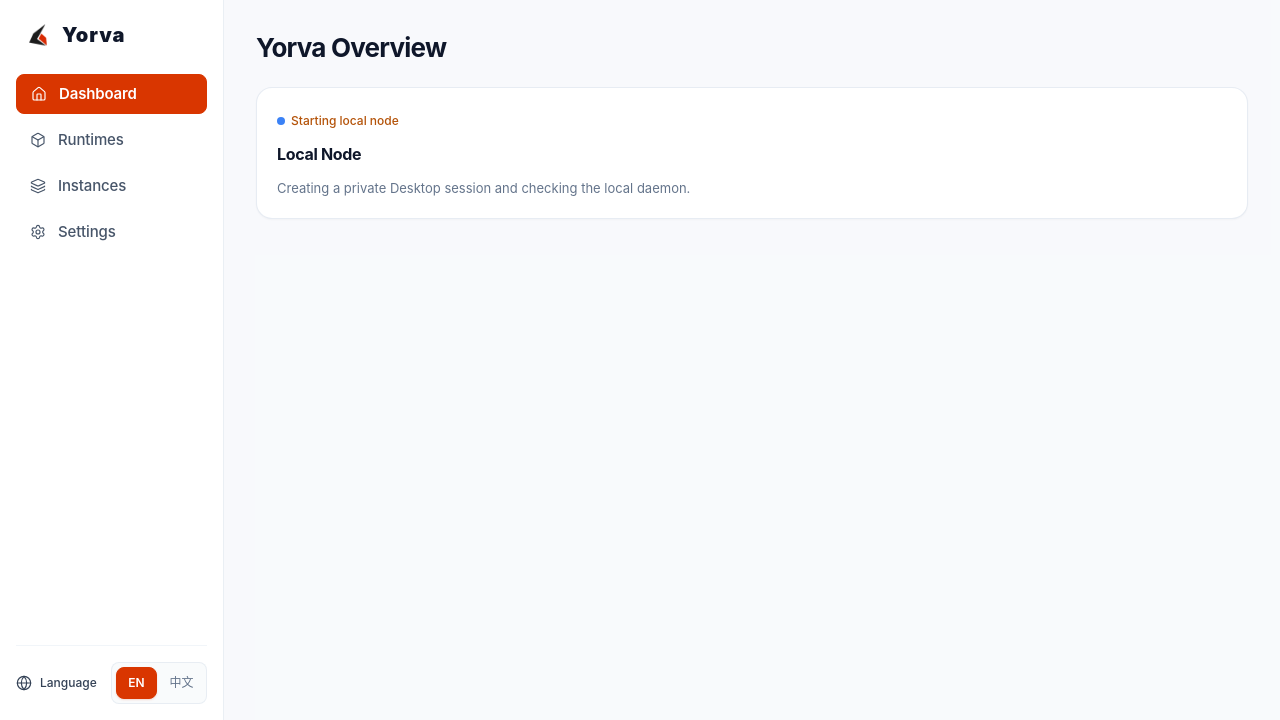
Test: App instance operation recovery › reloads a running instance.delete dialog after Desktop restart
Click the button "Instances" at coordinates (112, 186), box left=16, top=166, right=207, bottom=206
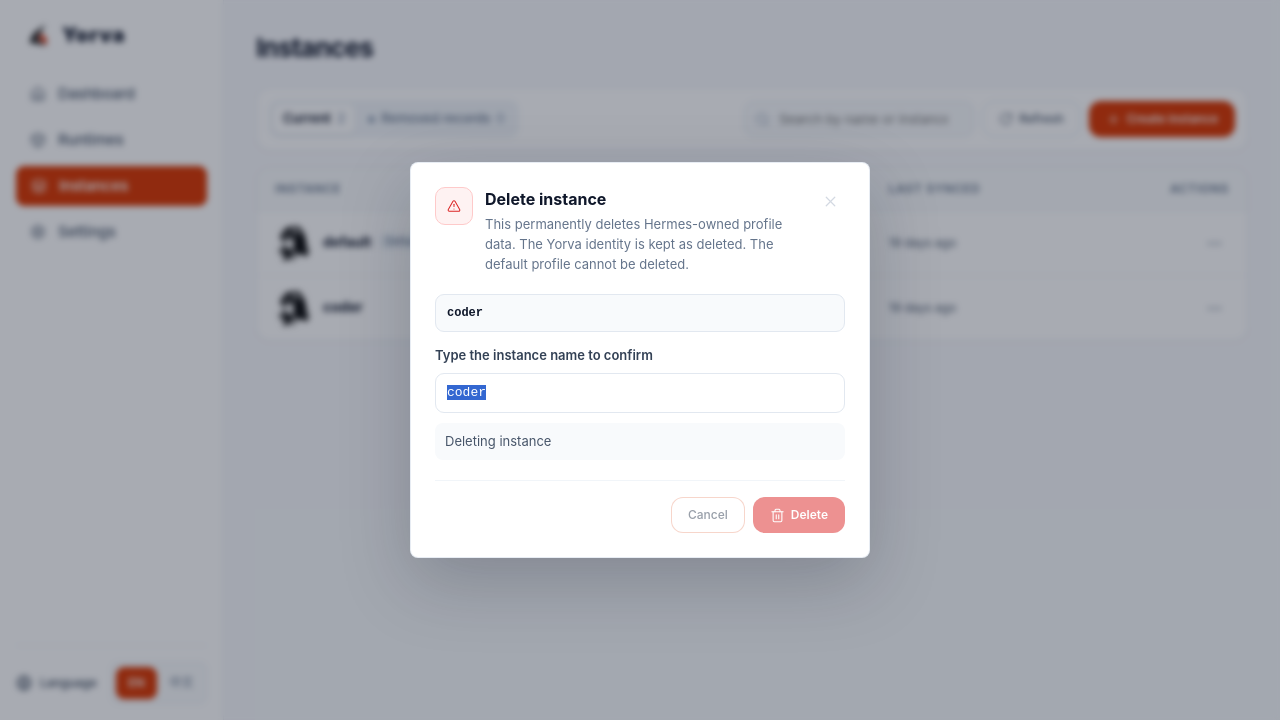
Expected: the heading "Delete instance" is shown, left=485, top=189, right=606, bottom=209
Expected: the text "Deleting instance" is shown, left=435, top=423, right=845, bottom=460
Expected: the field showing "coder" is shown, left=435, top=373, right=845, bottom=413
